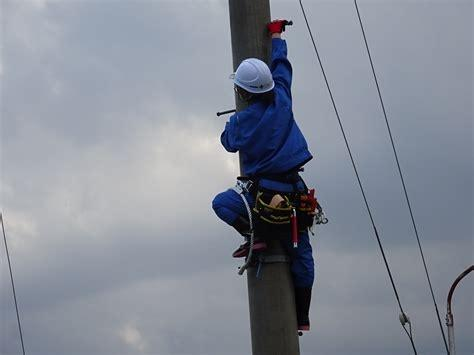Helmet: (235, 58, 274, 98)
